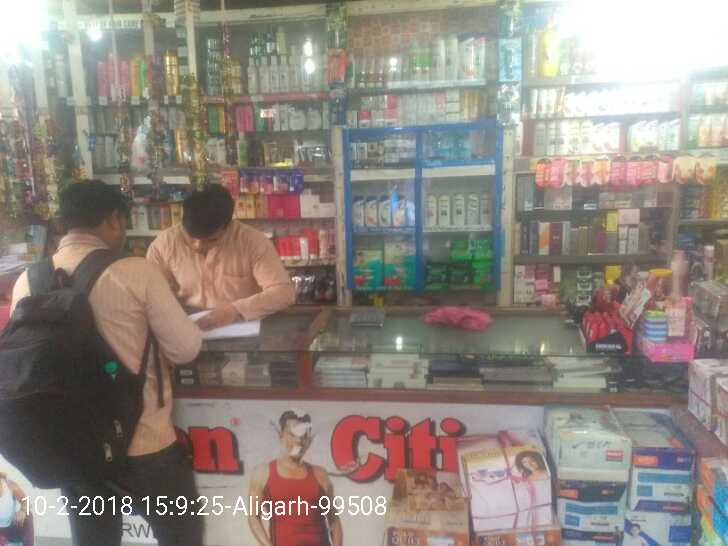venus: (428, 133, 451, 159), (451, 133, 468, 159)
